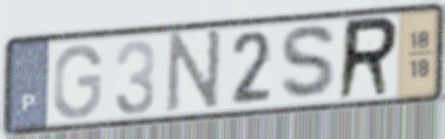2: (229, 29, 274, 106)
3: (113, 37, 158, 117)
G: (50, 42, 104, 122)
N: (163, 26, 225, 116)
R: (334, 14, 402, 104)
S: (277, 22, 342, 104)
